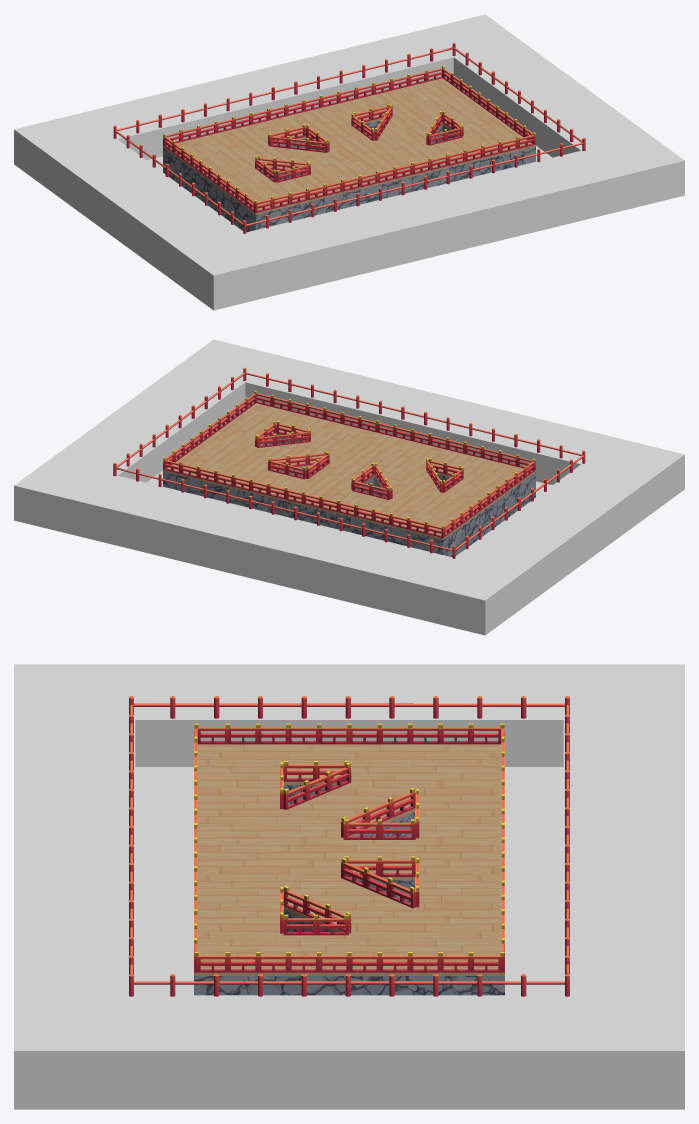
Rendered from Battle_Stage 37.fbx.
3 renders of one model, top to bottom at view 1: azimuth 30°, elevation 25°; view 2: azimuth 150°, elevation 25°; view 3: azimuth 270°, elevation 25°, orthographic. The views are drawn at different scales.
Parts seen in each view (by area): view 1: Plane_1.008, Platform_Cube__6_, Cube.094, Cube.077; view 2: Plane_1.008, Platform_Cube__6_, Cube.094, Cube.077; view 3: Plane_1.008, Platform_Cube__6_, Cube.094, Cube.077.
Boxes of the visible parts, box(x1,y1,x2,y2) form: Plane_1.008: box(14, 14, 684, 310); Platform_Cube__6_: box(163, 78, 535, 232); Cube.094: box(163, 65, 535, 212); Cube.077: box(113, 42, 585, 233); Plane_1.008: box(14, 339, 684, 635); Platform_Cube__6_: box(163, 403, 535, 557); Cube.094: box(163, 390, 535, 537); Cube.077: box(113, 367, 585, 558); Plane_1.008: box(14, 664, 684, 1109); Platform_Cube__6_: box(194, 744, 504, 995); Cube.094: box(194, 723, 504, 972); Cube.077: box(129, 696, 569, 996).
Bounding box in the file's own units: 14113 × 1366 × 10358.
